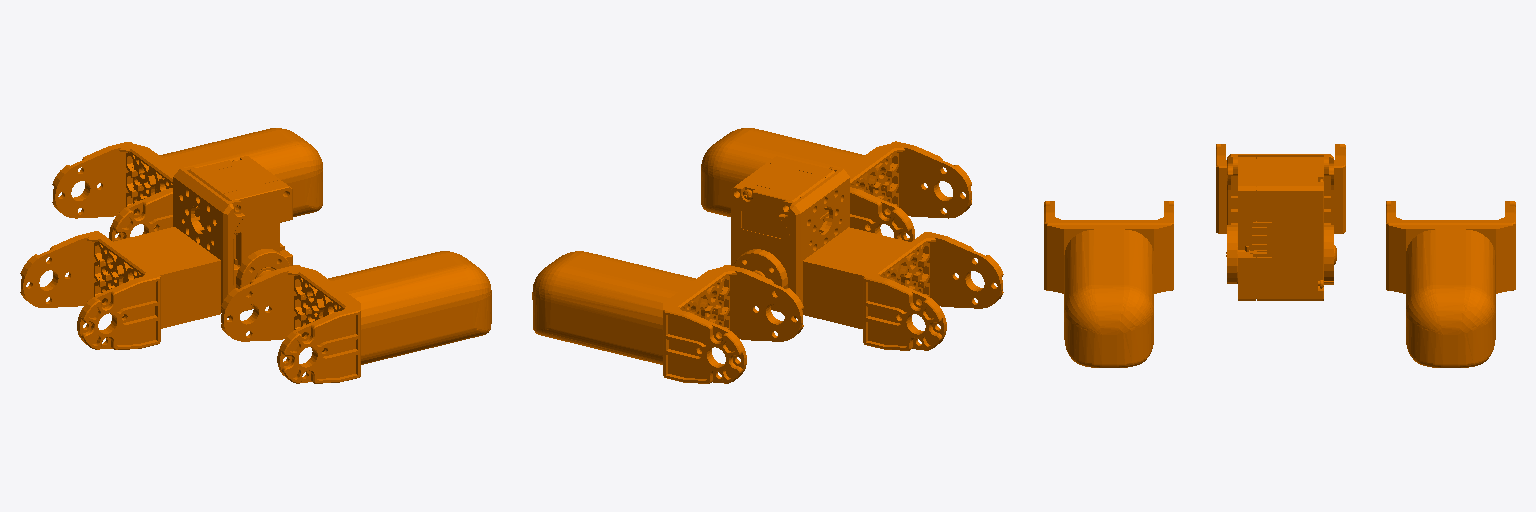
URDF robot description (onshape):
<robot name="onshape">
  <link name="palm_lower">
    <inertial>
      <origin xyz="0.0 0.0 0.0" rpy="0.0 -0.0 0.0"/>
      <mass value="0.237"/>
      <inertia ixx="0.000354094" ixy="-1.193e-06" ixz="-2.445e-06" iyy="0.000260915" iyz="-2.905e-06" izz="0.000529257"/>
    </inertial>
    <visual>
      <geometry>
        <mesh filename="../assets/leap/leap_hand/palm_lower.stl"/>
      </geometry>
      <origin xyz="-0.020095249652862544 0.025757756134899473 -0.034722403578460216" rpy="0.0 -0.0 0.0"/>
      <material name="palm_lower_material">
        <color rgba="0.6039215686274509 0.14901960784313725 0.14901960784313725 1.0"/>
      </material>
    </visual>
    <collision>
      <geometry>
        <mesh filename="../assets/leap/leap_hand/palm_lower.stl"/>
      </geometry>
      <origin xyz="-0.020095249652862544 0.025757756134899473 -0.034722403578460216" rpy="0.0 -0.0 0.0"/>
    </collision>
  </link>
  <link name="mcp_joint">
    <inertial>
      <origin xyz="0.0 0.0 0.0" rpy="0.0 -0.0 0.0"/>
      <mass value="0.044"/>
      <inertia ixx="1.1499e-05" ixy="3.049e-06" ixz="1.21e-07" iyy="7.796e-06" iyz="1.12e-07" izz="1.4759e-05"/>
    </inertial>
    <visual>
      <geometry>
        <mesh filename="../assets/leap/leap_hand/mcp_joint.stl"/>
      </geometry>
      <origin xyz="0.008406902261174496 0.0077662438597169954 0.014657354985032912" rpy="1.6375789613221e-15 -1.021047330249102e-30 1.7177968783327987e-31"/>
      <material name="mcp_joint_material">
        <color rgba="0.8666666666666667 0.8666666666666667 0.050980392156862744 1.0"/>
      </material>
    </visual>
    <collision>
      <geometry>
        <mesh filename="../assets/leap/leap_hand/mcp_joint.stl"/>
      </geometry>
      <origin xyz="0.008406902261174496 0.0077662438597169954 0.014657354985032912" rpy="1.6375789613221e-15 -1.021047330249102e-30 1.7177968783327987e-31"/>
    </collision>
  </link>
  <link name="pip">
    <inertial>
      <origin xyz="0.0 0.0 0.0" rpy="0.0 -0.0 0.0"/>
      <mass value="0.032"/>
      <inertia ixx="4.798e-06" ixy="1.2e-08" ixz="4e-09" iyy="2.862e-06" iyz="1.1e-08" izz="4.234e-06"/>
    </inertial>
    <visual>
      <geometry>
        <mesh filename="../assets/leap/leap_hand/pip.stl"/>
      </geometry>
      <origin xyz="0.009643363092271328 0.0002999999999999895 0.0007840340104173765" rpy="-1.5707963267948966 -1.5707963267948963 0.0"/>
      <material name="pip_material">
        <color rgba="0.7490196078431373 0.7490196078431373 0.7490196078431373 1.0"/>
      </material>
    </visual>
    <collision>
      <geometry>
        <mesh filename="../assets/leap/leap_hand/pip.stl"/>
      </geometry>
      <origin xyz="0.009643363092271328 0.0002999999999999895 0.0007840340104173765" rpy="-1.5707963267948966 -1.5707963267948963 0.0"/>
    </collision>
  </link>
  <link name="dip">
    <inertial>
      <origin xyz="0.0 0.0 0.0" rpy="0.0 -0.0 0.0"/>
      <mass value="0.037"/>
      <inertia ixx="5.542e-06" ixy="-6.07e-07" ixz="-1.7e-08" iyy="5.727e-06" iyz="-2.3e-08" izz="6.682e-06"/>
    </inertial>
    <visual>
      <geometry>
        <mesh filename="../assets/leap/leap_hand/dip.stl"/>
      </geometry>
      <origin xyz="0.021133352895225003 -0.00843211914670488 0.00978508816209524" rpy="-3.141592653589793 4.507511124216441e-32 4.439548105392361e-32"/>
      <material name="dip_material">
        <color rgba="0.8666666666666667 0.8666666666666667 0.050980392156862744 1.0"/>
      </material>
    </visual>
    <collision>
      <geometry>
        <mesh filename="../assets/leap/leap_hand/dip.stl"/>
      </geometry>
      <origin xyz="0.021133352895225003 -0.00843211914670488 0.00978508816209524" rpy="-3.141592653589793 4.507511124216441e-32 4.439548105392361e-32"/>
    </collision>
  </link>
  <link name="fingertip_long">
    <inertial>
      <origin xyz="0.0 0.0 0.0" rpy="0.0 -0.0 0.0"/>
      <mass value="0.016"/>
      <inertia ixx="3.368e-06" ixy="1.15e-07" ixz="0.0" iyy="1.556e-06" iyz="0.0" izz="2.863e-06"/>
    </inertial>
    <visual>
      <geometry>
        <mesh filename="custom_models/fingertip_long.stl"/>
      </geometry>
      <origin xyz="0.013286424108533503 -0.006114238386541987 0.014499999999999498" rpy="3.141592653589793 1.1993117970061735e-33 4.439548105392361e-32"/>
      <material name="fingertip_material">
        <color rgba="0.878 0.467 0.0 1.0"/>
      </material>
    </visual>
    <collision>
      <geometry>
        <mesh filename="custom_models/fingertip_long.stl"/>
      </geometry>
      <origin xyz="0.013286424108533503 -0.006114238386541987 0.014499999999999498" rpy="3.141592653589793 1.1993117970061735e-33 4.439548105392361e-32"/>
    </collision>
  </link>
  <link name="pip_4">
    <inertial>
      <origin xyz="0.0 0.0 0.0" rpy="0.0 -0.0 0.0"/>
      <mass value="0.032"/>
      <inertia ixx="4.798e-06" ixy="1.2e-08" ixz="4e-09" iyy="2.862e-06" iyz="1.1e-08" izz="4.234e-06"/>
    </inertial>
    <visual>
      <geometry>
        <mesh filename="../assets/leap/leap_hand/pip.stl"/>
      </geometry>
      <origin xyz="-0.005356636907728671 0.0002999999999999999 0.0007840340104173782" rpy="-1.5707963267948966 -1.5707963267948963 0.0"/>
      <material name="pip_material">
        <color rgba="0.7490196078431373 0.7490196078431373 0.7490196078431373 1.0"/>
      </material>
    </visual>
    <collision>
      <geometry>
        <mesh filename="../assets/leap/leap_hand/pip.stl"/>
      </geometry>
      <origin xyz="-0.005356636907728671 0.0002999999999999999 0.0007840340104173782" rpy="-1.5707963267948966 -1.5707963267948963 0.0"/>
    </collision>
  </link>
  <link name="thumb_pip">
    <inertial>
      <origin xyz="0.0 0.0 0.0" rpy="0.0 -0.0 0.0"/>
      <mass value="0.003"/>
      <inertia ixx="5.93e-07" ixy="0.0" ixz="0.0" iyy="5.49e-07" iyz="0.0" izz="2.24e-07"/>
    </inertial>
    <visual>
      <geometry>
        <mesh filename="../assets/leap/leap_hand/thumb_pip.stl"/>
      </geometry>
      <origin xyz="0.011961920770611187 -5.30825383648903e-16 -0.0158526489566642" rpy="1.5707963267948966 1.6050198443300153e-46 -3.9204996250525193e-59"/>
      <material name="thumb_pip_material">
        <color rgba="0.8666666666666667 0.8666666666666667 0.050980392156862744 1.0"/>
      </material>
    </visual>
    <collision>
      <geometry>
        <mesh filename="../assets/leap/leap_hand/thumb_pip.stl"/>
      </geometry>
      <origin xyz="0.011961920770611187 -5.30825383648903e-16 -0.0158526489566642" rpy="1.5707963267948966 1.6050198443300153e-46 -3.9204996250525193e-59"/>
    </collision>
  </link>
  <link name="thumb_dip">
    <inertial>
      <origin xyz="0.0 0.0 0.0" rpy="0.0 -0.0 0.0"/>
      <mass value="0.038"/>
      <inertia ixx="8.474e-06" ixy="2.41e-07" ixz="2.6e-08" iyy="3.841e-06" iyz="2.5e-08" izz="7.679e-06"/>
    </inertial>
    <visual>
      <geometry>
        <mesh filename="../assets/leap/leap_hand/thumb_dip.stl"/>
      </geometry>
      <origin xyz="0.043968715707239175 0.0579529529737092 -0.008628676449369476" rpy="1.94289029309401e-16 3.27515792264422e-15 1.112375852965736e-46"/>
      <material name="thumb_dip_material">
        <color rgba="0.8666666666666667 0.8666666666666667 0.050980392156862744 1.0"/>
      </material>
    </visual>
    <collision>
      <geometry>
        <mesh filename="../assets/leap/leap_hand/thumb_dip.stl"/>
      </geometry>
      <origin xyz="0.043968715707239175 0.0579529529737092 -0.008628676449369476" rpy="1.94289029309401e-16 3.27515792264422e-15 1.112375852965736e-46"/>
    </collision>
  </link>
  <link name="thumb_fingertip">
    <inertial>
      <origin xyz="0.0 0.0 0.0" rpy="0.0 -0.0 0.0"/>
      <mass value="0.049"/>
      <inertia ixx="2.0372e-05" ixy="-4.89e-07" ixz="-3e-08" iyy="4.336e-06" iyz="-9.7e-08" izz="1.9845e-05"/>
    </inertial>
    <visual>
      <geometry>
        <mesh filename="../assets/leap/leap_hand/thumb_fingertip.stl"/>
      </geometry>
      <origin xyz="0.06255953846266739 0.07845968291139699 0.048992911807332215" rpy="4.379057701015637e-47 -3.33066907387547e-16 1.2042408677791935e-46"/>
      <material name="thumb_fingertip_material">
        <color rgba="0.6039215686274509 0.14901960784313725 0.14901960784313725 1.0"/>
      </material>
    </visual>
    <collision>
      <geometry>
        <mesh filename="../assets/leap/leap_hand/thumb_fingertip.stl"/>
      </geometry>
      <origin xyz="0.06255953846266739 0.07845968291139699 0.048992911807332215" rpy="4.379057701015637e-47 -3.33066907387547e-16 1.2042408677791935e-46"/>
    </collision>
  </link>
  <link name="mcp_joint_2">
    <inertial>
      <origin xyz="0.0 0.0 0.0" rpy="0.0 -0.0 0.0"/>
      <mass value="0.044"/>
      <inertia ixx="1.1499e-05" ixy="3.049e-06" ixz="1.21e-07" iyy="7.796e-06" iyz="1.12e-07" izz="1.4759e-05"/>
    </inertial>
    <visual>
      <geometry>
        <mesh filename="../assets/leap/leap_hand/mcp_joint.stl"/>
      </geometry>
      <origin xyz="0.008406902261174496 0.0077662438597169954 0.014657354985032914" rpy="1.6375789613221e-15 -1.0076465469034e-30 2.1209300131419907e-61"/>
      <material name="mcp_joint_material">
        <color rgba="0.8666666666666667 0.8666666666666667 0.050980392156862744 1.0"/>
      </material>
    </visual>
    <collision>
      <geometry>
        <mesh filename="../assets/leap/leap_hand/mcp_joint.stl"/>
      </geometry>
      <origin xyz="0.008406902261174496 0.0077662438597169954 0.014657354985032914" rpy="1.6375789613221e-15 -1.0076465469034e-30 2.1209300131419907e-61"/>
    </collision>
  </link>
  <link name="pip_2">
    <inertial>
      <origin xyz="0.0 0.0 0.0" rpy="0.0 -0.0 0.0"/>
      <mass value="0.032"/>
      <inertia ixx="4.798e-06" ixy="1.2e-08" ixz="4e-09" iyy="2.862e-06" iyz="1.1e-08" izz="4.234e-06"/>
    </inertial>
    <visual>
      <geometry>
        <mesh filename="../assets/leap/leap_hand/pip.stl"/>
      </geometry>
      <origin xyz="0.009643363092271328 0.0002999999999999947 0.0007840340104173765" rpy="-1.5707963267948966 -1.5707963267948963 0.0"/>
      <material name="pip_material">
        <color rgba="0.7490196078431373 0.7490196078431373 0.7490196078431373 1.0"/>
      </material>
    </visual>
    <collision>
      <geometry>
        <mesh filename="../assets/leap/leap_hand/pip.stl"/>
      </geometry>
      <origin xyz="0.009643363092271328 0.0002999999999999947 0.0007840340104173765" rpy="-1.5707963267948966 -1.5707963267948963 0.0"/>
    </collision>
  </link>
  <link name="dip_2_long">
    <inertial>
      <origin xyz="0.0 0.0 0.0" rpy="0.0 -0.0 0.0"/>
      <mass value="0.037"/>
      <inertia ixx="5.542e-06" ixy="-6.07e-07" ixz="-1.7e-08" iyy="5.727e-06" iyz="-2.3e-08" izz="6.682e-06"/>
    </inertial>
    <visual>
      <geometry>
        <mesh filename="custom_models/dip_long.stl"/>
      </geometry>
      <origin xyz="0.021133352895225003 -0.008432119146704865 0.009785088162095237" rpy="-3.141592653589793 2.1146933785271956e-32 1.4408183216511869e-31"/>
      <material name="dip_material">
        <color rgba="0.878 0.467 0.0 1.0"/>
      </material>
    </visual>
    <collision>
      <geometry>
        <mesh filename="custom_models/dip_long.stl"/>
      </geometry>
      <origin xyz="0.021133352895225003 -0.008432119146704865 0.009785088162095237" rpy="-3.141592653589793 2.1146933785271956e-32 1.4408183216511869e-31"/>
    </collision>
  </link>
  <link name="fingertip_2">
    <inertial>
      <origin xyz="0.0 0.0 0.0" rpy="0.0 -0.0 0.0"/>
      <mass value="0.016"/>
      <inertia ixx="3.368e-06" ixy="1.15e-07" ixz="0.0" iyy="1.556e-06" iyz="0.0" izz="2.863e-06"/>
    </inertial>
    <visual>
      <geometry>
        <mesh filename="../assets/leap/leap_hand/fingertip.stl"/>
      </geometry>
      <origin xyz="0.013286424108533496 -0.006114238386542001 0.014499999999999496" rpy="3.141592653589793 -4.317959788283594e-33 1.4408183216511869e-31"/>
      <material name="fingertip_material">
        <color rgba="0.8666666666666667 0.8666666666666667 0.050980392156862744 1.0"/>
      </material>
    </visual>
    <collision>
      <geometry>
        <mesh filename="../assets/leap/leap_hand/fingertip.stl"/>
      </geometry>
      <origin xyz="0.013286424108533496 -0.006114238386542001 0.014499999999999496" rpy="3.141592653589793 -4.317959788283594e-33 1.4408183216511869e-31"/>
    </collision>
  </link>
  <link name="mcp_joint_3">
    <inertial>
      <origin xyz="0.0 0.0 0.0" rpy="0.0 -0.0 0.0"/>
      <mass value="0.044"/>
      <inertia ixx="1.1499e-05" ixy="3.049e-06" ixz="1.21e-07" iyy="7.796e-06" iyz="1.12e-07" izz="1.4759e-05"/>
    </inertial>
    <visual>
      <geometry>
        <mesh filename="../assets/leap/leap_hand/mcp_joint.stl"/>
      </geometry>
      <origin xyz="0.0084069022611745 0.007766243859716996 0.014657354985032914" rpy="1.6375789613221e-15 -1.0059504988632627e-30 5.729641584552035e-32"/>
      <material name="mcp_joint_material">
        <color rgba="0.8666666666666667 0.8666666666666667 0.050980392156862744 1.0"/>
      </material>
    </visual>
    <collision>
      <geometry>
        <mesh filename="../assets/leap/leap_hand/mcp_joint.stl"/>
      </geometry>
      <origin xyz="0.0084069022611745 0.007766243859716996 0.014657354985032914" rpy="1.6375789613221e-15 -1.0059504988632627e-30 5.729641584552035e-32"/>
    </collision>
  </link>
  <link name="pip_3">
    <inertial>
      <origin xyz="0.0 0.0 0.0" rpy="0.0 -0.0 0.0"/>
      <mass value="0.032"/>
      <inertia ixx="4.798e-06" ixy="1.2e-08" ixz="4e-09" iyy="2.862e-06" iyz="1.1e-08" izz="4.234e-06"/>
    </inertial>
    <visual>
      <geometry>
        <mesh filename="../assets/leap/leap_hand/pip.stl"/>
      </geometry>
      <origin xyz="0.009643363092271331 0.00029999999999998084 0.0007840340104173765" rpy="-1.5707963267948966 -1.5707963267948963 0.0"/>
      <material name="pip_material">
        <color rgba="0.7490196078431373 0.7490196078431373 0.7490196078431373 1.0"/>
      </material>
    </visual>
    <collision>
      <geometry>
        <mesh filename="../assets/leap/leap_hand/pip.stl"/>
      </geometry>
      <origin xyz="0.009643363092271331 0.00029999999999998084 0.0007840340104173765" rpy="-1.5707963267948966 -1.5707963267948963 0.0"/>
    </collision>
  </link>
  <link name="dip_3">
    <inertial>
      <origin xyz="0.0 0.0 0.0" rpy="0.0 -0.0 0.0"/>
      <mass value="0.037"/>
      <inertia ixx="5.542e-06" ixy="-6.07e-07" ixz="-1.7e-08" iyy="5.727e-06" iyz="-2.3e-08" izz="6.682e-06"/>
    </inertial>
    <visual>
      <geometry>
        <mesh filename="../assets/leap/leap_hand/dip.stl"/>
      </geometry>
      <origin xyz="0.021133352895225006 -0.008432119146704865 0.009785088162095237" rpy="-3.141592653589793 -1.4095651113919093e-33 1.5565411607615035e-32"/>
      <material name="dip_material">
        <color rgba="0.8666666666666667 0.8666666666666667 0.050980392156862744 1.0"/>
      </material>
    </visual>
    <collision>
      <geometry>
        <mesh filename="../assets/leap/leap_hand/dip.stl"/>
      </geometry>
      <origin xyz="0.021133352895225006 -0.008432119146704865 0.009785088162095237" rpy="-3.141592653589793 -1.4095651113919093e-33 1.5565411607615035e-32"/>
    </collision>
  </link>
  <link name="fingertip_3_long">
    <inertial>
      <origin xyz="0.0 0.0 0.0" rpy="0.0 -0.0 0.0"/>
      <mass value="0.016"/>
      <inertia ixx="3.368e-06" ixy="1.15e-07" ixz="0.0" iyy="1.556e-06" iyz="0.0" izz="2.863e-06"/>
    </inertial>
    <visual>
      <geometry>
        <mesh filename="custom_models/fingertip_long.stl"/>
      </geometry>
      <origin xyz="0.013286424108533501 -0.006114238386541987 0.0144999999999995" rpy="3.141592653589793 8.61707169505754e-33 1.5565411607615035e-32"/>
      <material name="fingertip_material">
        <color rgba="0.878 0.467 0.0 1.0"/>
      </material>
    </visual>
    <collision>
      <geometry>
        <mesh filename="custom_models/fingertip_long.stl"/>
      </geometry>
      <origin xyz="0.013286424108533501 -0.006114238386541987 0.0144999999999995" rpy="3.141592653589793 8.61707169505754e-33 1.5565411607615035e-32"/>
    </collision>
  </link>
  <joint name="1" type="revolute">
    <parent link="palm_lower"/>
    <child link="mcp_joint"/>
    <origin xyz="-0.007095249652862546 0.023057756134899472 -0.01872240357846022" rpy="1.570796326794895 1.5707963267948946 0.0"/>
    <axis xyz="0.0 0.0 -1.0"/>
    <limit effort="0.95" velocity="8.48" lower="-0.314" upper="2.23"/>
  </joint>
  <joint name="0" type="revolute">
    <parent link="mcp_joint"/>
    <child link="pip"/>
    <origin xyz="-0.012200000000000008 0.038099999999999995 0.0145" rpy="-1.5707963267948966 -1.0065212660796337e-15 1.5707963267948943"/>
    <axis xyz="0.0 0.0 -1.0"/>
    <limit effort="0.95" velocity="8.48" lower="-1.047" upper="1.047"/>
  </joint>
  <joint name="2" type="revolute">
    <parent link="pip"/>
    <child link="dip"/>
    <origin xyz="0.014999999999999968 0.014299999999999905 -0.012999999999999824" rpy="1.570796326794896 -1.5707963267948963 0.0"/>
    <axis xyz="0.0 0.0 -1.0"/>
    <limit effort="0.95" velocity="8.48" lower="-0.506" upper="1.885"/>
  </joint>
  <joint name="3" type="revolute">
    <parent link="dip"/>
    <child link="fingertip_long"/>
    <origin xyz="-4.088058249557269e-09 -0.03610000421036737 0.0002000000000000786" rpy="4.5935029425113685e-17 -2.8730071914463795e-16 4.439548105392361e-32"/>
    <axis xyz="0.0 0.0 -1.0"/>
    <limit effort="0.95" velocity="8.48" lower="-0.366" upper="2.042"/>
  </joint>
  <joint name="12" type="revolute">
    <parent link="palm_lower"/>
    <child link="pip_4"/>
    <origin xyz="-0.06939524965286253 -0.0012422438651005258 -0.021622403578460216" rpy="-8.238176646493942e-17 1.5707963267948957 0.0"/>
    <axis xyz="0.0 0.0 -1.0"/>
    <limit effort="0.95" velocity="8.48" lower="-0.349" upper="2.094"/>
  </joint>
  <joint name="13" type="revolute">
    <parent link="pip_4"/>
    <child link="thumb_pip"/>
    <origin xyz="-2.7755575615628914e-17 0.014300000000000005 -0.013000000000000012" rpy="1.570796326794896 -1.5707963267948963 0.0"/>
    <axis xyz="0.0 0.0 -1.0"/>
    <limit effort="0.95" velocity="8.48" lower="-0.47" upper="2.443"/>
  </joint>
  <joint name="14" type="revolute">
    <parent link="thumb_pip"/>
    <child link="thumb_dip"/>
    <origin xyz="0.0 0.014499999999999966 -0.017000000000000053" rpy="-1.5707963267948966 1.6050198443300131e-46 -1.9721522630516625e-31"/>
    <axis xyz="0.0 0.0 -1.0"/>
    <limit effort="0.95" velocity="8.48" lower="-1.2" upper="1.9"/>
  </joint>
  <joint name="15" type="revolute">
    <parent link="thumb_dip"/>
    <child link="thumb_fingertip"/>
    <origin xyz="-1.249000902703301e-16 0.046599999999999864 0.0001999999999999771" rpy="1.506395849149178e-44 5.423418723393526e-31 3.141592653589793"/>
    <axis xyz="0.0 0.0 -1.0"/>
    <limit effort="0.95" velocity="8.48" lower="-1.34" upper="1.88"/>
  </joint>
  <joint name="5" type="revolute">
    <parent link="palm_lower"/>
    <child link="mcp_joint_2"/>
    <origin xyz="-0.007095249652862546 -0.022392243865100525 -0.01872240357846022" rpy="1.570796326794895 1.5707963267948946 0.0"/>
    <axis xyz="0.0 0.0 -1.0"/>
    <limit effort="0.95" velocity="8.48" lower="-0.314" upper="2.23"/>
  </joint>
  <joint name="4" type="revolute">
    <parent link="mcp_joint_2"/>
    <child link="pip_2"/>
    <origin xyz="-0.012200000000000008 0.038099999999999995 0.0145" rpy="-1.5707963267948966 -1.0065212660796337e-15 1.5707963267948943"/>
    <axis xyz="0.0 0.0 -1.0"/>
    <limit effort="0.95" velocity="8.48" lower="-1.047" upper="1.047"/>
  </joint>
  <joint name="6" type="revolute">
    <parent link="pip_2"/>
    <child link="dip_2_long"/>
    <origin xyz="0.014999999999999968 0.014299999999999905 -0.012999999999999824" rpy="1.570796326794896 -1.5707963267948963 0.0"/>
    <axis xyz="0.0 0.0 -1.0"/>
    <limit effort="0.95" velocity="8.48" lower="-0.506" upper="1.885"/>
  </joint>
  <joint name="7" type="revolute">
    <parent link="dip_2_long"/>
    <child link="fingertip_2"/>
    <origin xyz="-4.0880582495572692636e-09 -0.051100004210367367397 0.00020000000000007858714" rpy="4.5935029425113685e-17 -2.8730071914463795e-16 4.439548105392361e-32"/>
    <axis xyz="0.0 0.0 -1.0"/>
    <limit effort="0.95" velocity="8.48" lower="-0.366" upper="2.042"/>
  </joint>
  <joint name="9" type="revolute">
    <parent link="palm_lower"/>
    <child link="mcp_joint_3"/>
    <origin xyz="-0.007095249652862546 -0.06784224386510052 -0.01872240357846022" rpy="1.570796326794895 1.5707963267948946 0.0"/>
    <axis xyz="0.0 0.0 -1.0"/>
    <limit effort="0.95" velocity="8.48" lower="-0.314" upper="2.23"/>
  </joint>
  <joint name="8" type="revolute">
    <parent link="mcp_joint_3"/>
    <child link="pip_3"/>
    <origin xyz="-0.012200000000000008 0.038099999999999995 0.0145" rpy="-1.5707963267948966 -1.0065212660796337e-15 1.5707963267948943"/>
    <axis xyz="0.0 0.0 -1.0"/>
    <limit effort="0.95" velocity="8.48" lower="-1.047" upper="1.047"/>
  </joint>
  <joint name="10" type="revolute">
    <parent link="pip_3"/>
    <child link="dip_3"/>
    <origin xyz="0.014999999999999968 0.014299999999999905 -0.012999999999999824" rpy="1.570796326794896 -1.5707963267948963 0.0"/>
    <axis xyz="0.0 0.0 -1.0"/>
    <limit effort="0.95" velocity="8.48" lower="-0.506" upper="1.885"/>
  </joint>
  <joint name="11" type="revolute">
    <parent link="dip_3"/>
    <child link="fingertip_3_long"/>
    <origin xyz="-4.088058249557269e-09 -0.03610000421036737 0.0002000000000000786" rpy="4.5935029425113685e-17 -2.8730071914463795e-16 4.439548105392361e-32"/>
    <axis xyz="0.0 0.0 -1.0"/>
    <limit effort="0.95" velocity="8.48" lower="-0.366" upper="2.042"/>
  </joint>
</robot>

--- Facts derived from the render (not from the file) ---
The picture shows the robot from 3 angles, left to right: view 1: azimuth 30°, elevation 25°; view 2: azimuth 150°, elevation 25°; view 3: azimuth 270°, elevation 25°; orthographic projection.
Robot: onshape — 17 links, 16 joints (16 revolute); root link palm_lower; default pose: every joint at zero.
Links seen in each view (by area): view 1: dip_2_long, fingertip_3_long, fingertip_long; view 2: dip_2_long, fingertip_long, fingertip_3_long; view 3: dip_2_long, fingertip_long, fingertip_3_long.
Boxes of the visible links, <box> form: dip_2_long: <box>20,156,292,349</box>; fingertip_3_long: <box>221,251,491,383</box>; fingertip_long: <box>52,128,322,241</box>; dip_2_long: <box>731,156,1003,350</box>; fingertip_long: <box>532,251,803,383</box>; fingertip_3_long: <box>701,128,971,241</box>; dip_2_long: <box>1216,144,1345,300</box>; fingertip_long: <box>1386,201,1515,367</box>; fingertip_3_long: <box>1044,201,1173,367</box>.
Bounding box of the posed robot: 0.1085 × 0.1255 × 0.0356 m (x, y, z).
Meshes: 10 distinct files referenced, 3 mesh visuals loaded (2 binary STL); not drawn: 14 (reference not matched to a file when rendering).